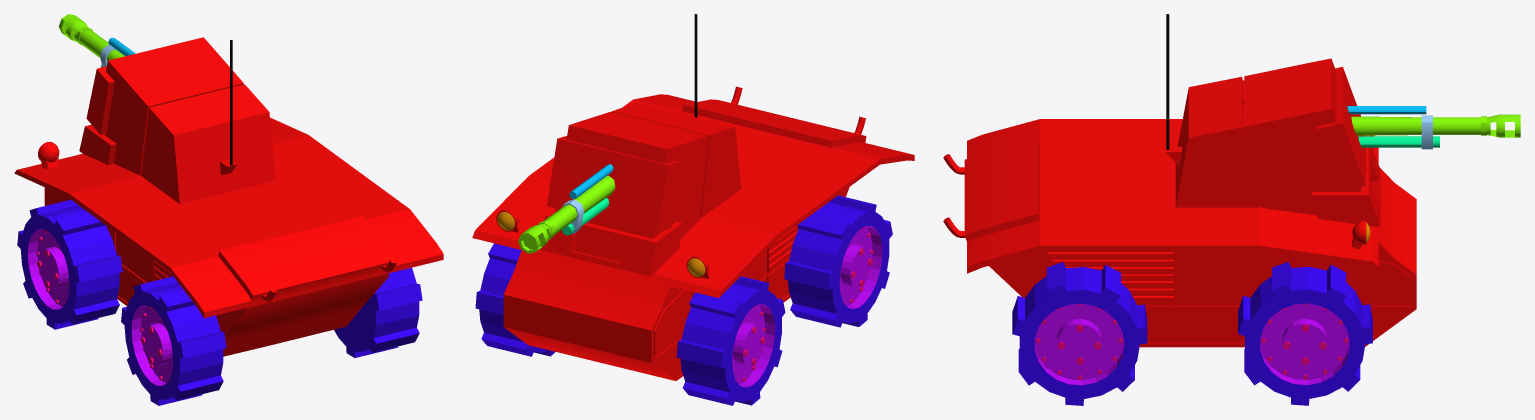
File: Tank_GWB2.FBX
3 views of the same model, side by side, from view 1: azimuth 30°, elevation 25°; view 2: azimuth 150°, elevation 25°; view 3: azimuth 270°, elevation 25° (orthographic). The views are drawn at different scales.
Parts seen in each view (by area): view 1: G.W.B2_Body, G.W.B2_Wheel_f_left, G.W.B2_Wheel_b_left, G.W.B2_Wheel_b_right, G.W.B2_Canon; view 2: G.W.B2_Body, G.W.B2_Wheel_b_left, G.W.B2_Wheel_f_left, G.W.B2_Wheel_f_right, G.W.B2_Canon; view 3: G.W.B2_Body, G.W.B2_Wheel_b_right, G.W.B2_Wheel_f_right, G.W.B2_Canon.
Part boxes in pixels (box(x1,y1,x2,y2)): G.W.B2_Body: box(14, 37, 443, 356); G.W.B2_Wheel_f_left: box(17, 199, 122, 329); G.W.B2_Wheel_b_left: box(121, 276, 226, 405); G.W.B2_Wheel_b_right: box(334, 267, 422, 357); G.W.B2_Canon: box(58, 14, 135, 67); G.W.B2_Body: box(472, 14, 914, 380); G.W.B2_Wheel_b_left: box(784, 195, 892, 327); G.W.B2_Wheel_f_left: box(676, 276, 785, 405); G.W.B2_Wheel_f_right: box(475, 243, 555, 356); G.W.B2_Canon: box(518, 164, 615, 253); G.W.B2_Body: box(943, 14, 1416, 347); G.W.B2_Wheel_b_right: box(1012, 262, 1147, 405); G.W.B2_Wheel_f_right: box(1238, 262, 1372, 405); G.W.B2_Canon: box(1347, 106, 1520, 149).
Size of the model in its own units: 2.01 by 2.39 by 3.82.
